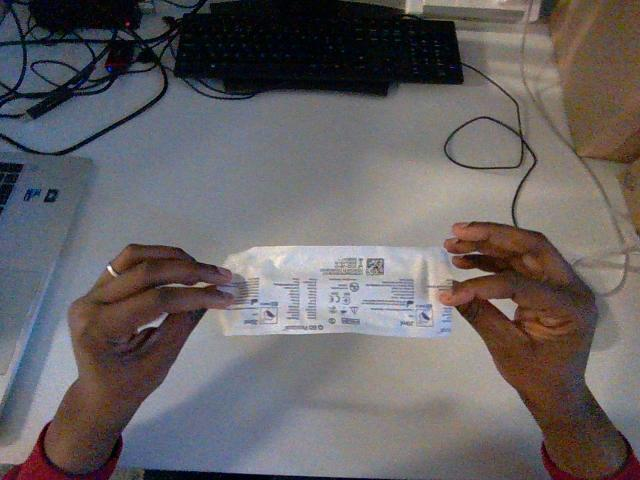syringe: (220, 246, 451, 336)
